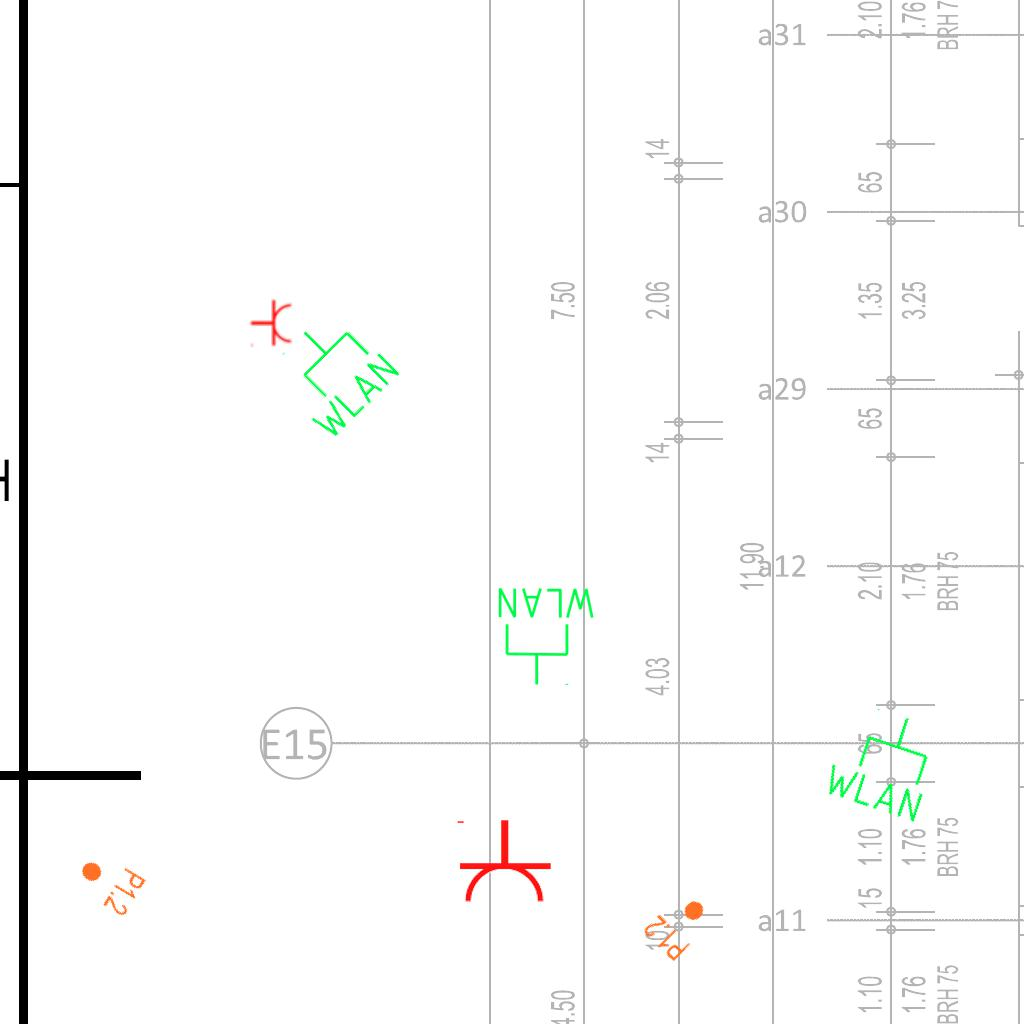Downlight_LED_Einbauleuchten_Flur: (640, 886, 718, 964), (69, 846, 149, 920)
Schukosteckdose_einfach: (453, 818, 553, 905), (250, 299, 293, 349)
WLAN: (258, 299, 406, 448), (817, 695, 949, 828), (494, 584, 599, 688)
